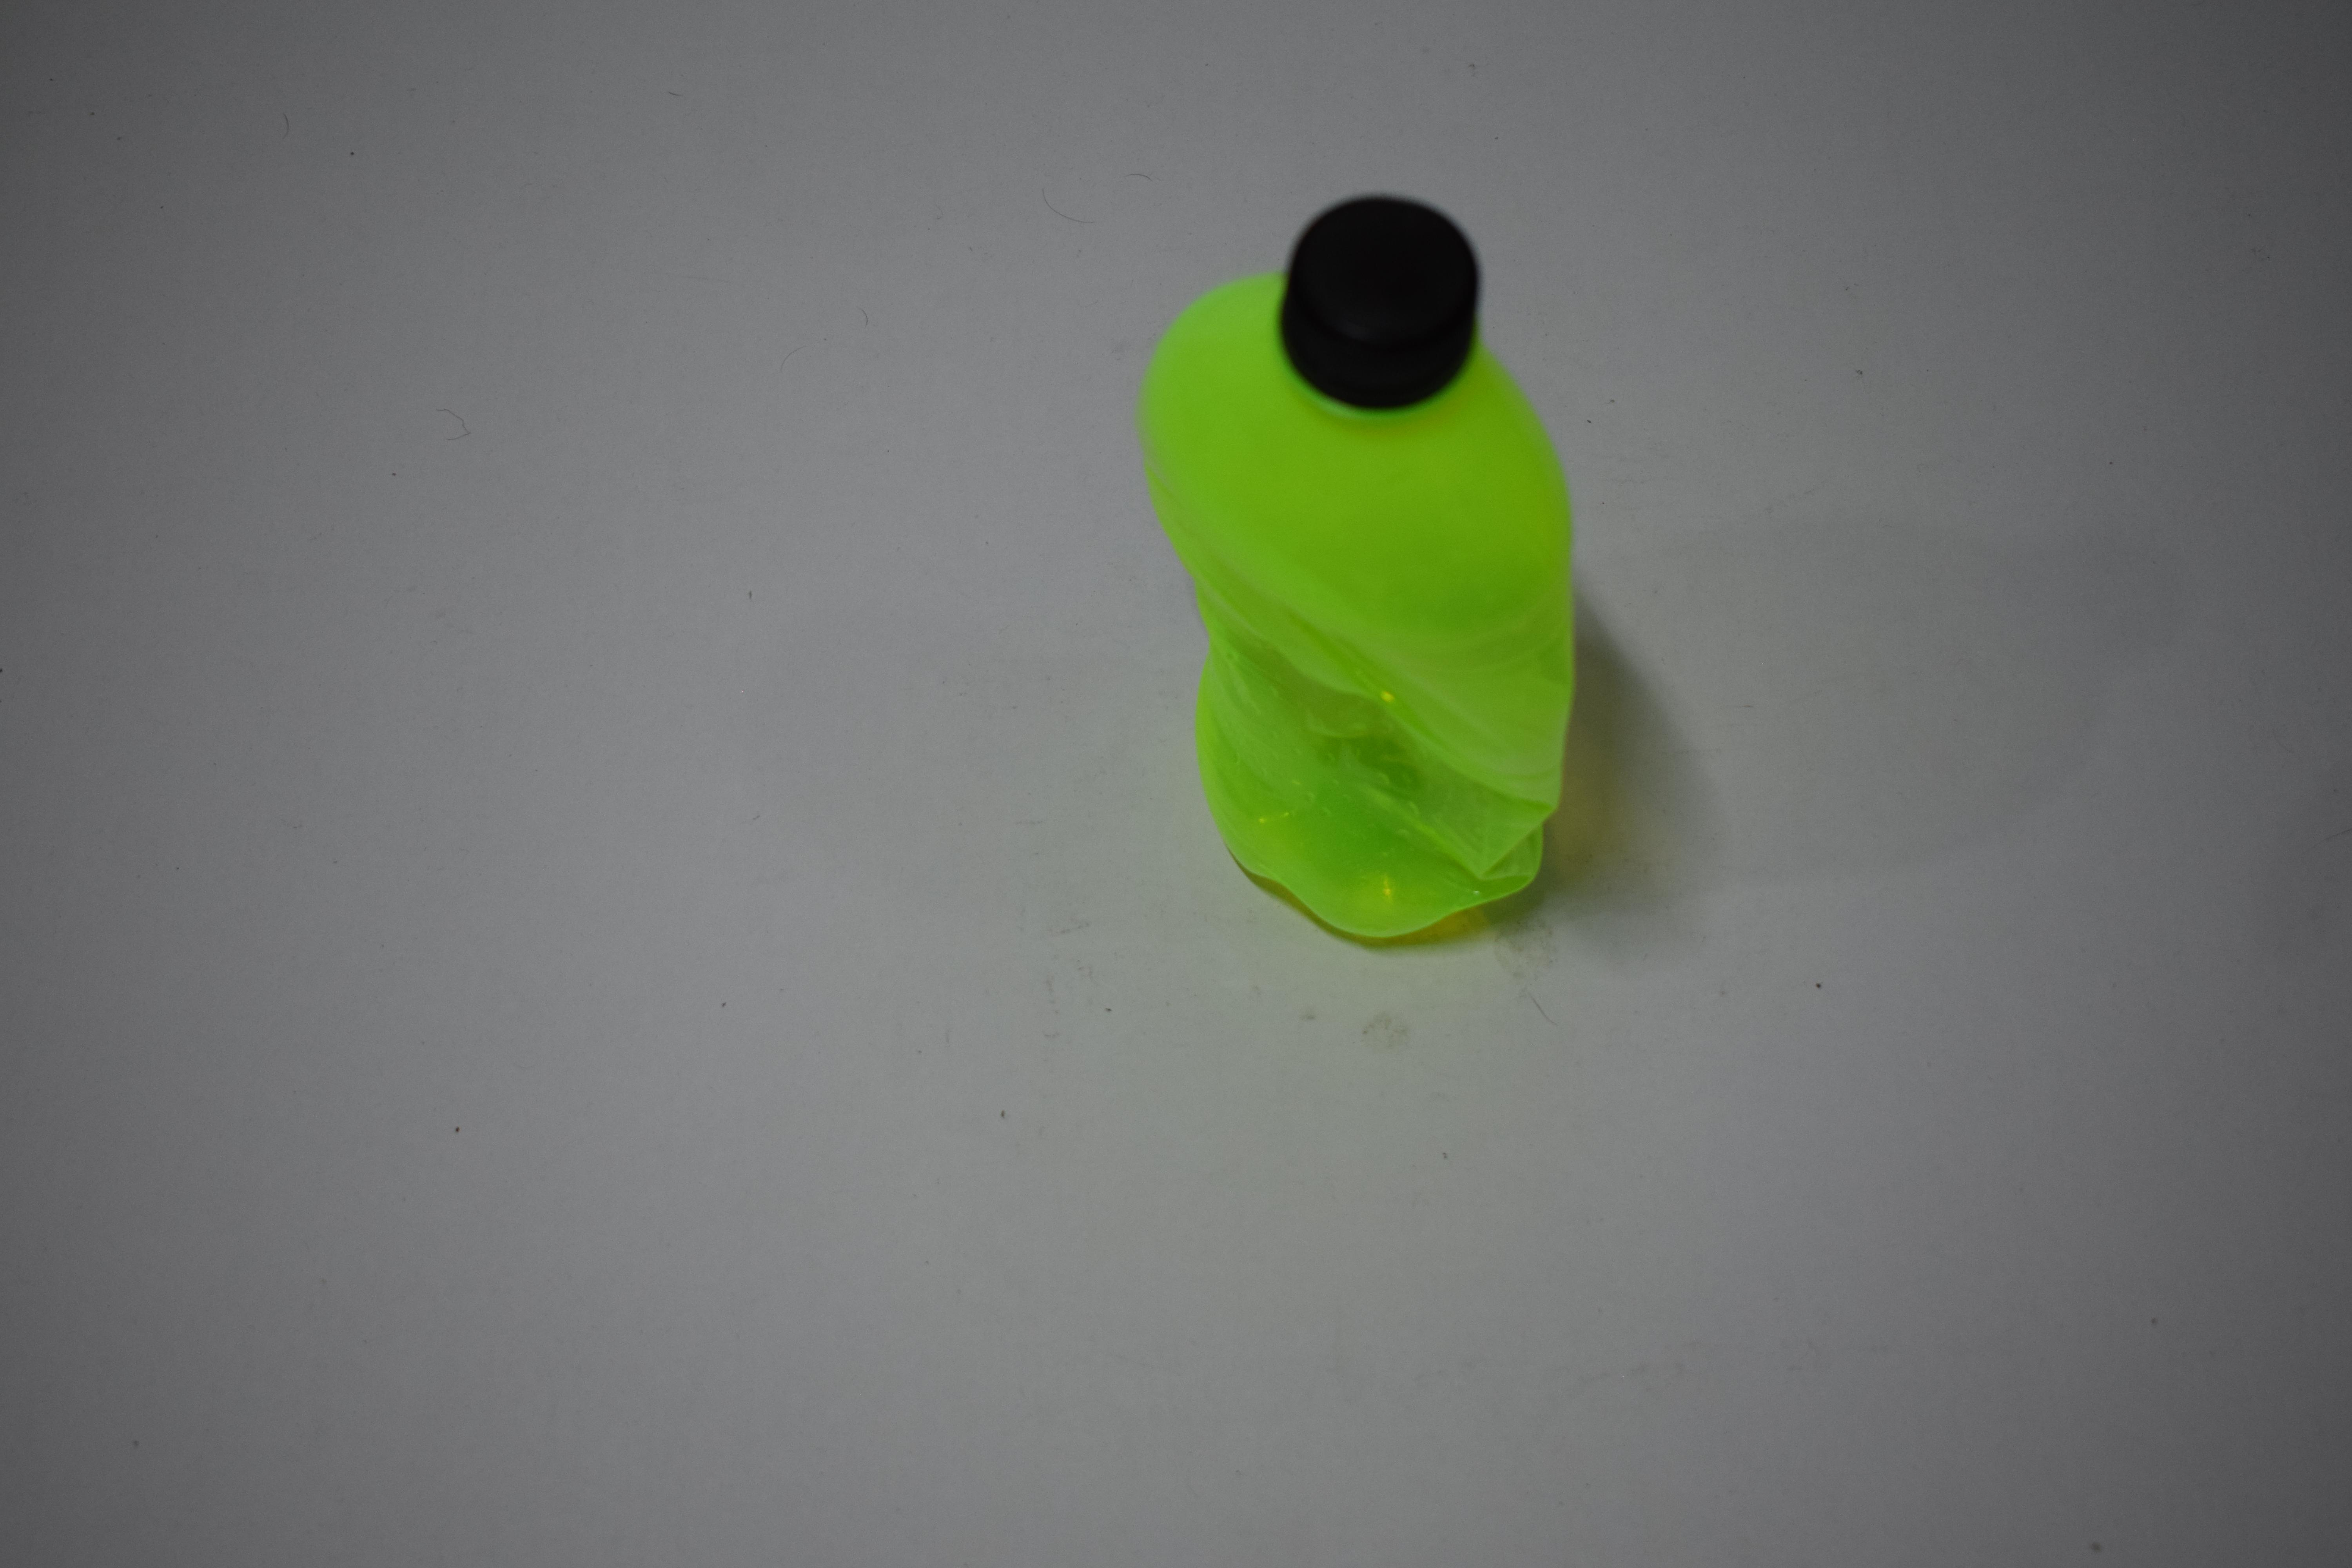bottle: (0, 184, 404, 949)
